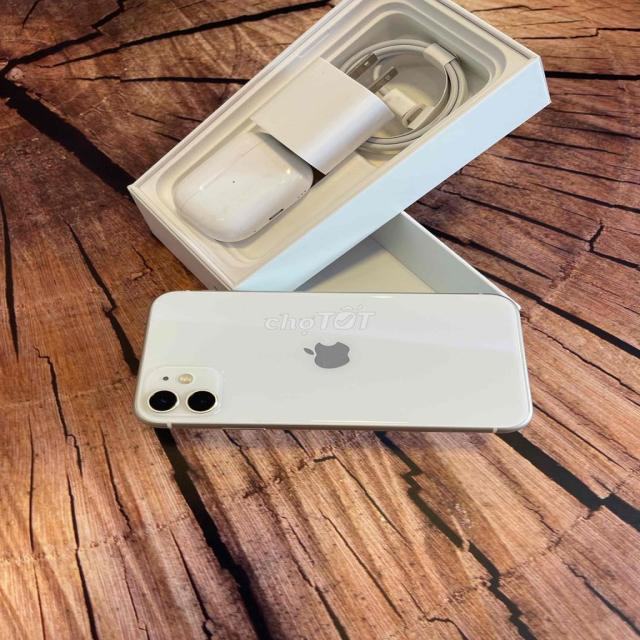gen_11: (121, 281, 546, 446)
